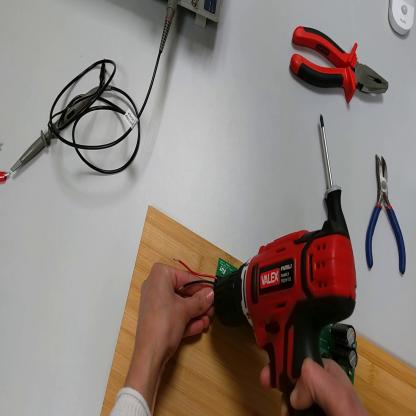electric screwdriver: (215, 229, 357, 416)
hand: (135, 263, 217, 364), (263, 356, 366, 415)
high voltage board: (174, 259, 358, 382)
oscilloscope: (167, 2, 222, 30)
oscilloscope probe tip: (12, 83, 111, 173)
pliers: (287, 22, 392, 103), (367, 152, 408, 275)
screwdriver-: (320, 112, 351, 239)
working area: (101, 205, 415, 415)
